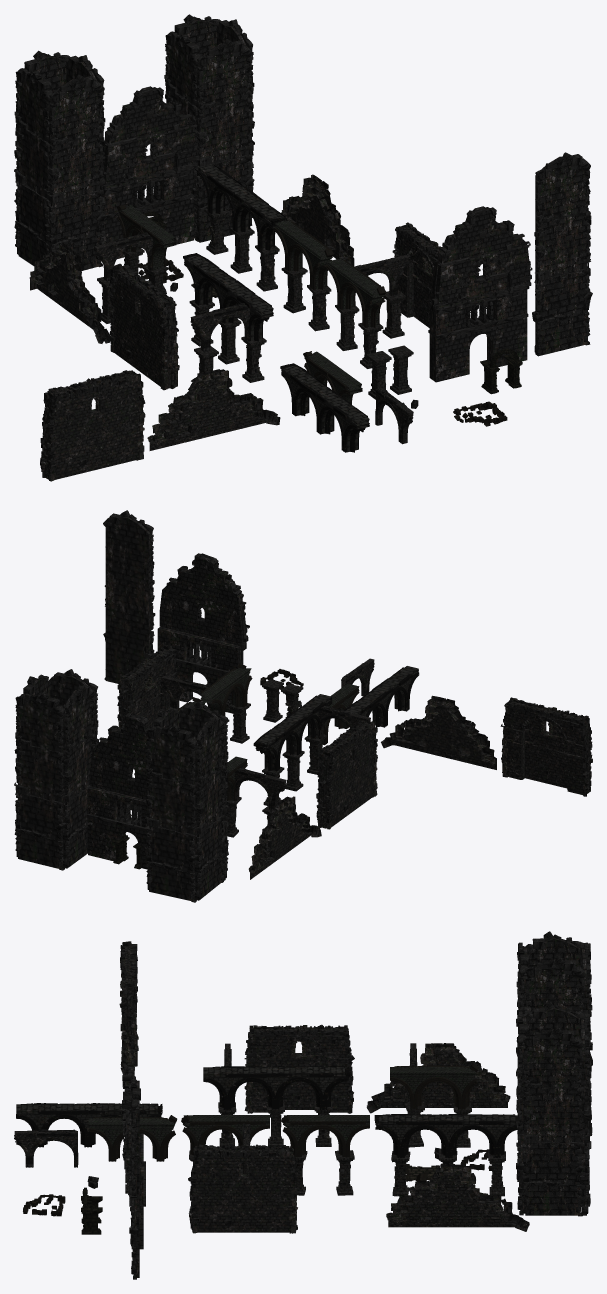
Rendered from old_church_ruins-compressed.glb.
3 renders of one model, top to bottom at view 1: azimuth 30°, elevation 25°; view 2: azimuth 150°, elevation 25°; view 3: azimuth 270°, elevation 25°, orthographic. The views are drawn at different scales.
Parts seen in each view (by area): view 1: FACADE, FACADE.001, TOWER_FACADE, TOWER_FACADE.007, RUINED_WALL, TOWER_FACADE.001, RUINED_WALL.001, TOWER_FACADE.008, SMALL_RUINED_WALL, SMALL_RUINED_WALL.001, ARCH_LONG, ARCH_LONG.001 (+29 smaller); view 2: FACADE, TOWER_FACADE.005, TOWER_FACADE.003, TOWER_FACADE, FACADE.001, RUINED_WALL, TOWER_FACADE.008, RUINED_WALL.001, TOWER_FACADE.002, SMALL_RUINED_WALL, RUINED_WALL.002, SMALL_RUINED_WALL.001 (+13 smaller); view 3: TOWER_FACADE.004, RUINED_WALL.002, RUINED_WALL.001, SMALL_RUINED_WALL.002, ARCH_LONG.002, ARCH_LONG.001, SMALL_RUINED_WALL.001, ARCH_LONG, TOWER_FACADE.006, ARCHS_SHORT.001, ARCHS_SHORT.002, ARCHS_SHORT (+19 smaller).
Boxes of the visible parts, bbox=[...] form: FACADE: bbox=[428, 206, 532, 382]; FACADE.001: bbox=[100, 86, 199, 258]; TOWER_FACADE: bbox=[532, 152, 592, 356]; TOWER_FACADE.007: bbox=[45, 74, 105, 270]; RUINED_WALL: bbox=[40, 370, 145, 481]; TOWER_FACADE.001: bbox=[193, 39, 254, 242]; RUINED_WALL.001: bbox=[108, 263, 179, 390]; TOWER_FACADE.008: bbox=[14, 69, 52, 265]; SMALL_RUINED_WALL: bbox=[147, 369, 280, 450]; SMALL_RUINED_WALL.001: bbox=[29, 242, 110, 343]; ARCH_LONG: bbox=[280, 363, 369, 452]; ARCH_LONG.001: bbox=[197, 164, 286, 250]; FACADE: bbox=[157, 553, 249, 713]; TOWER_FACADE.005: bbox=[145, 724, 198, 902]; TOWER_FACADE.003: bbox=[14, 692, 66, 870]; TOWER_FACADE: bbox=[103, 510, 155, 683]; FACADE.001: bbox=[87, 713, 150, 869]; RUINED_WALL: bbox=[500, 697, 592, 796]; TOWER_FACADE.008: bbox=[194, 716, 227, 900]; RUINED_WALL.001: bbox=[316, 720, 377, 829]; TOWER_FACADE.002: bbox=[62, 685, 95, 868]; SMALL_RUINED_WALL: bbox=[381, 695, 496, 769]; RUINED_WALL.002: bbox=[117, 645, 177, 729]; SMALL_RUINED_WALL.001: bbox=[248, 796, 321, 879]; TOWER_FACADE.004: bbox=[522, 1026, 583, 1216]; RUINED_WALL.002: bbox=[188, 1144, 297, 1233]; RUINED_WALL.001: bbox=[244, 1024, 354, 1113]; SMALL_RUINED_WALL.002: bbox=[386, 1163, 529, 1231]; ARCH_LONG.002: bbox=[203, 1066, 349, 1109]; ARCH_LONG.001: bbox=[374, 1114, 517, 1157]; SMALL_RUINED_WALL.001: bbox=[366, 1043, 510, 1113]; ARCH_LONG: bbox=[16, 1103, 162, 1147]; TOWER_FACADE.006: bbox=[525, 956, 585, 1013]; ARCHS_SHORT.001: bbox=[390, 1063, 478, 1110]; ARCHS_SHORT.002: bbox=[281, 1115, 369, 1157]; ARCHS_SHORT: bbox=[88, 1115, 177, 1161].
Bounding box in the file's own units: 34.02 × 11.74 × 32.19.
16 materials, 16 textured.
